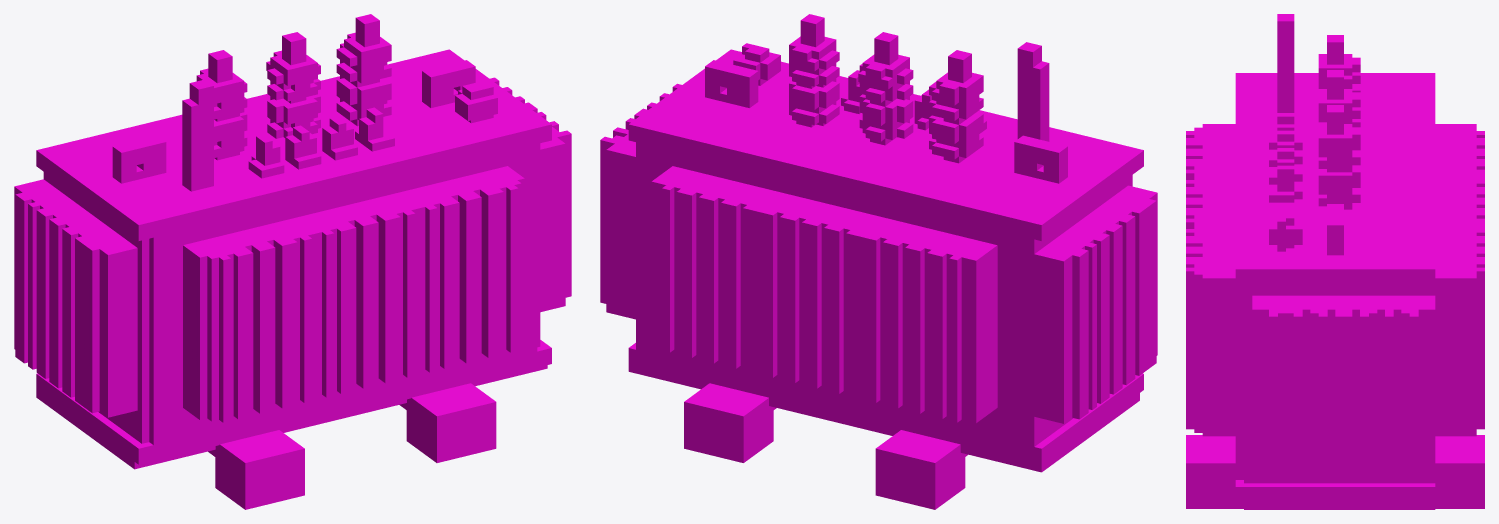
Rendered from power_transformer_building__electricity.glb.
3 renders of one model, left to right at view 1: azimuth 30°, elevation 25°; view 2: azimuth 150°, elevation 25°; view 3: azimuth 270°, elevation 25°, orthographic. The views are drawn at different scales.
Parts seen in each view (by area): view 1: col_wall_14, col_wall_10, col_wall_28, col_column_07, col_block_04, col_block_02, col_block_09, col_wall_25, col_column_53, col_column_06, col_column_30, col_column_17 (+54 smaller); view 2: col_block_08, col_block_09, col_wall_13, col_block_10, col_block_06, col_column_22, col_column_35, col_column_08, col_block_01, col_block_03, col_wall_18, col_floor_01 (+50 smaller); view 3: col_wall_18, col_block_10, col_column_51, col_block_08, col_column_52, col_floor_03, col_block_09, col_wall_21, col_block_04, col_block_03, col_roof_05, col_wall_19 (+50 smaller).
Boxes of the visible parts, x1,y1,x2,y2 form: col_wall_14: (183,207,354,419); col_wall_10: (149,276,293,445); col_wall_28: (149,184,293,283); col_column_07: (103,245,137,417); col_block_04: (406,383,496,462); col_block_02: (215,430,304,509); col_block_09: (43,130,206,244); col_wall_25: (289,146,448,218); col_column_53: (540,140,565,312); col_column_06: (75,236,99,413); col_column_30: (354,216,378,388); col_column_17: (251,241,275,413); col_block_08: (768,105,990,221); col_block_09: (960,140,1123,284); col_wall_13: (1033,188,1152,423); col_block_10: (636,60,791,191); col_block_06: (960,276,1073,446); col_column_22: (846,214,900,402); col_column_35: (743,189,797,377); col_column_08: (961,242,997,423); col_block_01: (875,430,965,509); col_block_03: (684,383,773,462); col_wall_18: (606,134,636,319); col_floor_01: (960,383,1130,472); col_wall_18: (1260,295,1435,467); col_block_10: (1260,230,1435,295); col_column_51: (1435,271,1476,436); col_block_08: (1260,139,1435,202); col_column_52: (1202,271,1235,436); col_floor_03: (1260,483,1435,509); col_block_09: (1260,76,1435,111); col_wall_21: (1252,202,1426,230); col_block_04: (1186,435,1243,508); col_block_03: (1435,435,1484,508); col_roof_05: (1260,265,1435,284); col_wall_19: (1252,111,1426,139).
Bounding box in the file's own units: 259 × 199 × 143.
